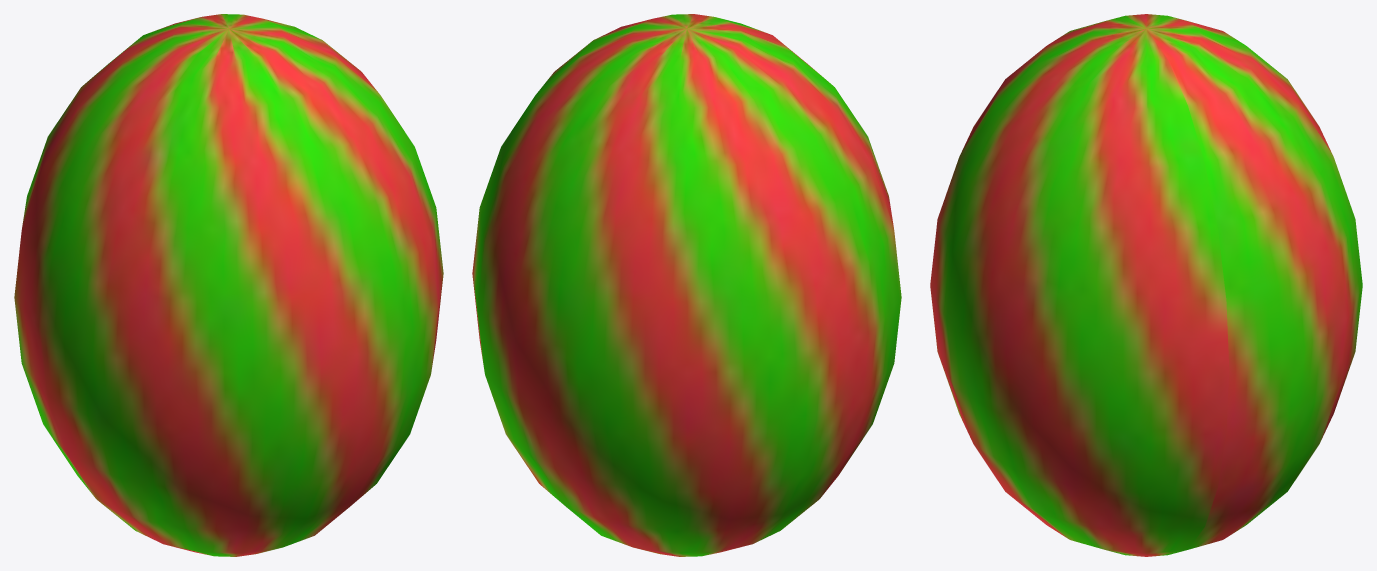
File: egg_10.fbx
The picture shows the model from 3 angles, left to right: view 1: azimuth 30°, elevation 25°; view 2: azimuth 150°, elevation 25°; view 3: azimuth 270°, elevation 25°; orthographic projection.
Parts seen in each view (by area): view 1: egg_10; view 2: egg_10; view 3: egg_10.
Part boxes in pixels (x1,y1,x2,y2): egg_10: (14, 14, 443, 556); egg_10: (472, 14, 901, 556); egg_10: (930, 14, 1362, 556).
Size of the model in its own units: 9.95 by 13.02 by 9.95.
